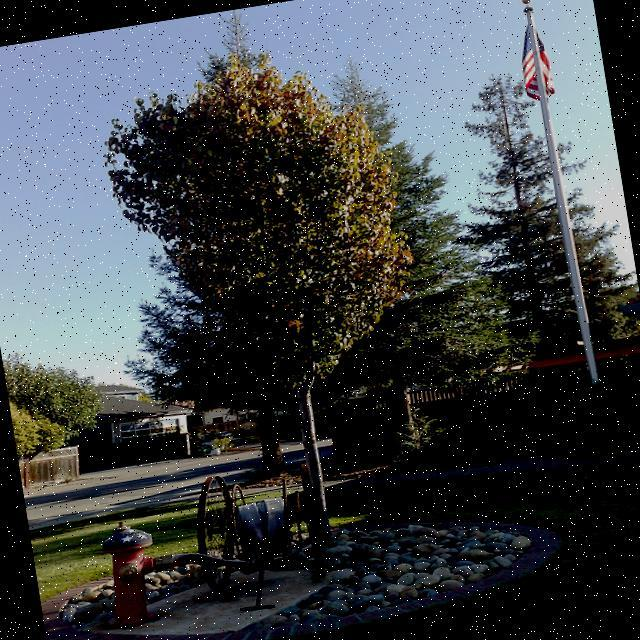fire_hydrant: (90, 513, 184, 631)
